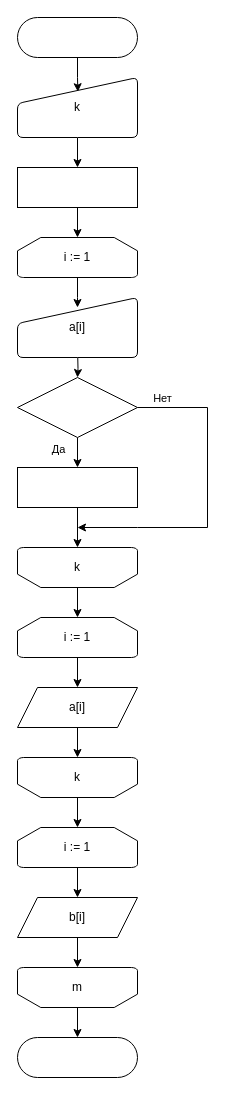
This 233x1095 diagram has some shape labels left out. The shapes that lost their labels are listed below. From the top down, each one's centre as x and y in pixels, then its label:
At point (77, 37): "Начало".
At point (77, 187): "m := 1".
At point (77, 407): "i mod 2 = 0".
At point (77, 487): "m := m + 1 b[m] := a[i]".
At point (77, 1057): "Конец".
